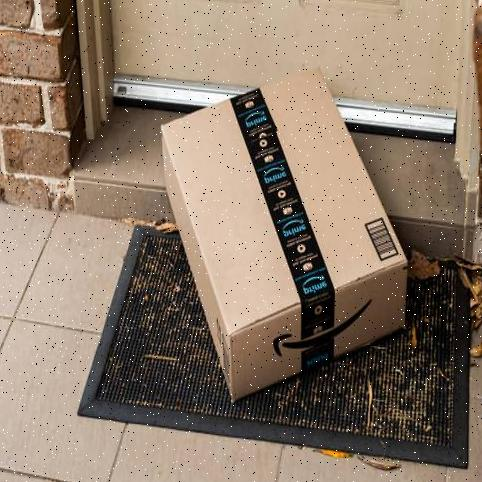Amazon: (159, 66, 413, 405)
